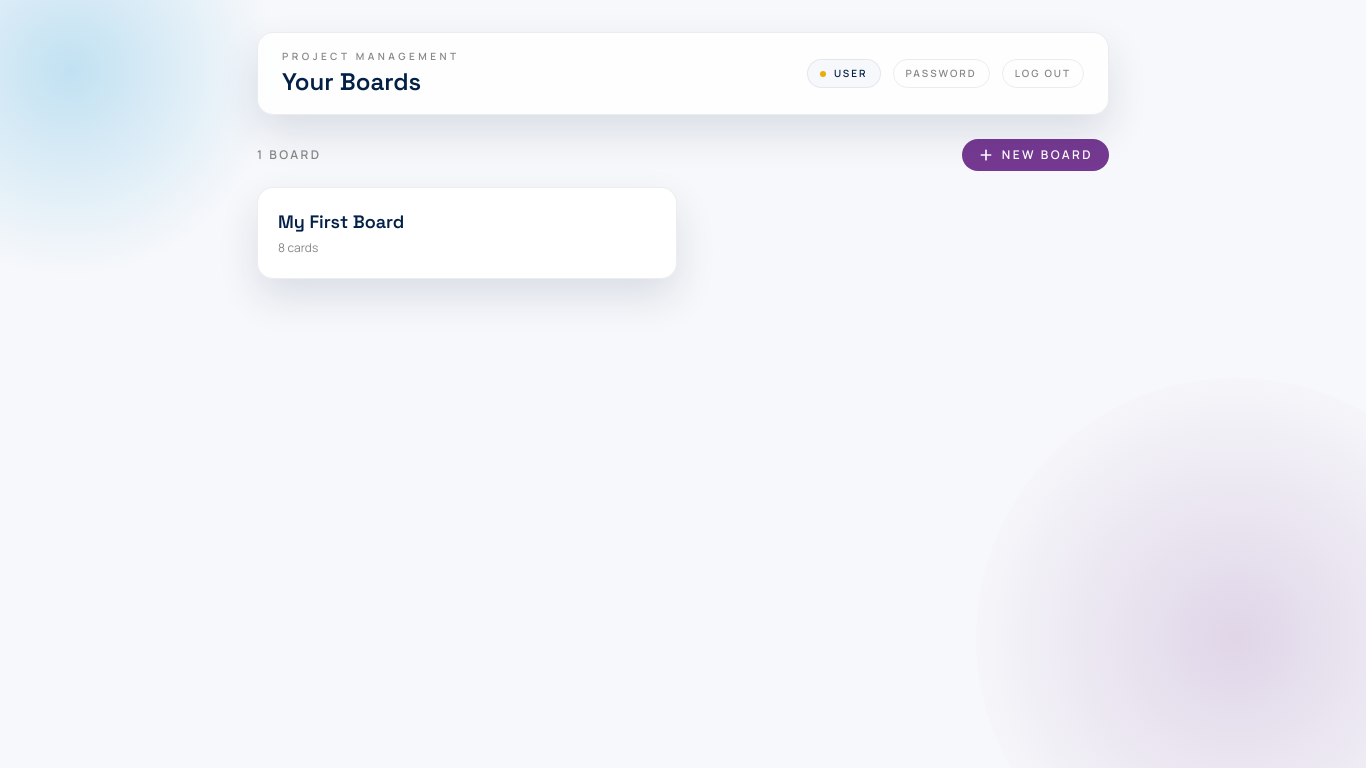
Test case: BoardSelector › opens a board when clicked
Check: the list with test id "boards-list" is shown, box x1=257 y1=187 x2=677 y2=279
Step 1. Click the button with test id "open-board-board-1" → (341, 222), box x1=278 y1=208 x2=656 y2=256
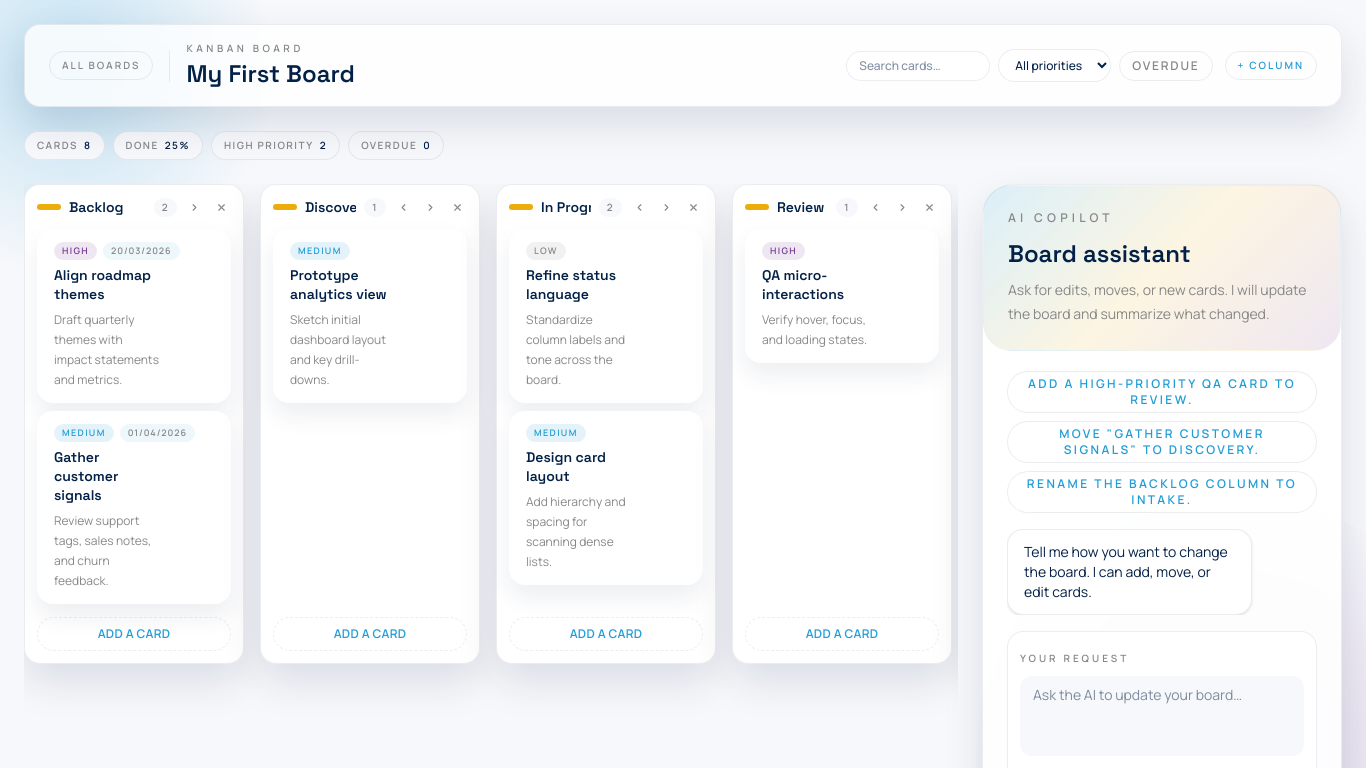
Check: the button with test id "back-button" is shown, box x1=49 y1=51 x2=154 y2=80
